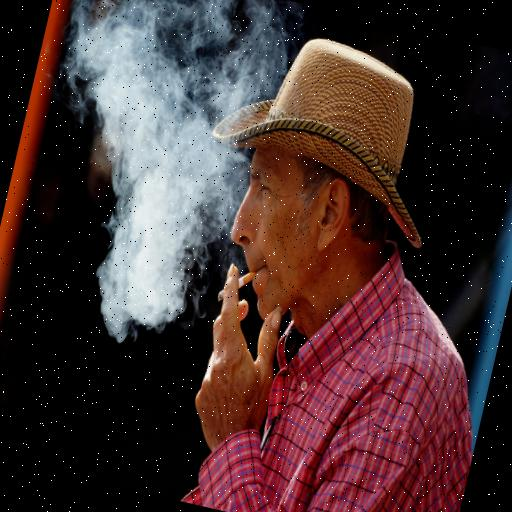terdeteksi merokok: (198, 141, 311, 334)
